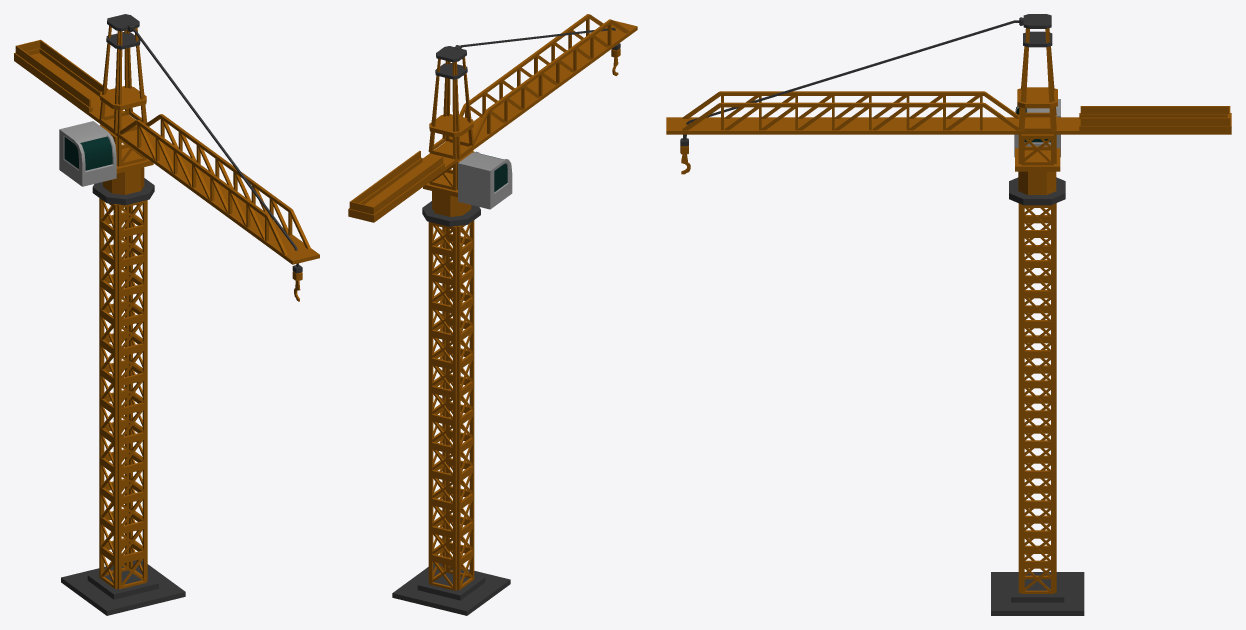
File: Vinç.FBX
3 renders of one model, left to right at view 1: azimuth 30°, elevation 25°; view 2: azimuth 150°, elevation 25°; view 3: azimuth 270°, elevation 25°, orthographic. The views are drawn at different scales.
Visible parts, largest first — view 1: Vinç; view 2: Vinç; view 3: Vinç.
Boxes of the visible parts, x1,y1,x2,y2 form: Vinç: (14,14,319,615); Vinç: (348,14,637,615); Vinç: (666,14,1231,615).
Bounding box in the file's own units: 0.1177 × 0.6972 × 0.6177.
